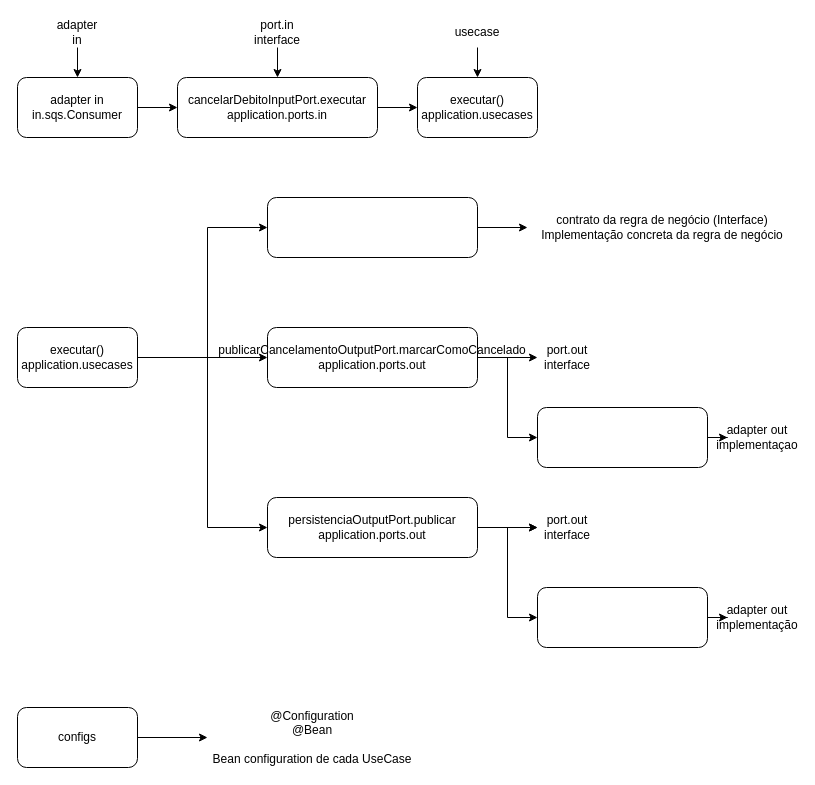
The diagram is 815 pixels wide and 785 high, and some of its shapes have lost their labels. Each missing label, with the box of its shape:
marcarComoCancelado adapters.out.respository: (536, 406, 708, 468)
politica.poderCancelar application.domain.policy: (266, 196, 478, 258)
publicar adapters.out.sns: (536, 586, 708, 648)
